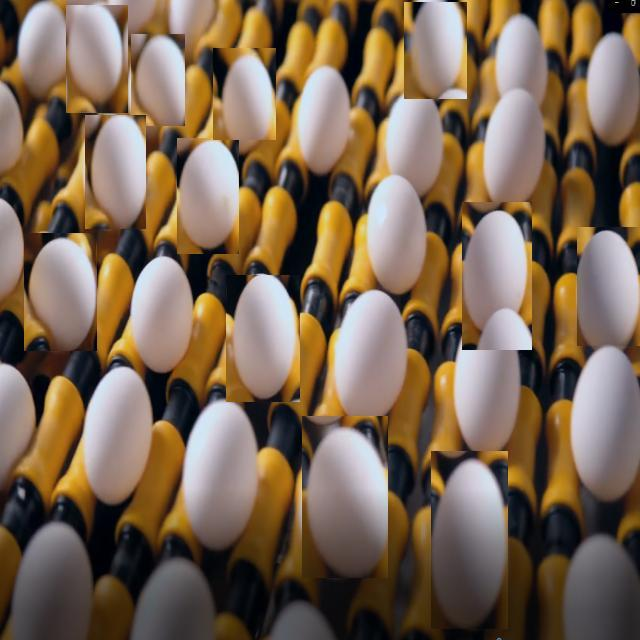Egg: (302, 416, 388, 578), (560, 334, 640, 506), (431, 451, 508, 629), (180, 392, 261, 547), (326, 292, 416, 425), (454, 307, 528, 468), (8, 520, 98, 640), (462, 202, 532, 350), (84, 366, 156, 502), (476, 86, 546, 220), (227, 275, 300, 402), (128, 541, 221, 640), (127, 255, 198, 378), (24, 233, 97, 351), (560, 533, 640, 640), (367, 175, 430, 302), (384, 83, 457, 187), (577, 227, 640, 346), (178, 138, 240, 254), (294, 62, 354, 179), (85, 115, 146, 229), (584, 26, 640, 146), (66, 5, 128, 113), (491, 10, 554, 116), (404, 2, 467, 99), (213, 48, 276, 140), (0, 356, 36, 509), (17, 6, 78, 91), (132, 35, 186, 126)
